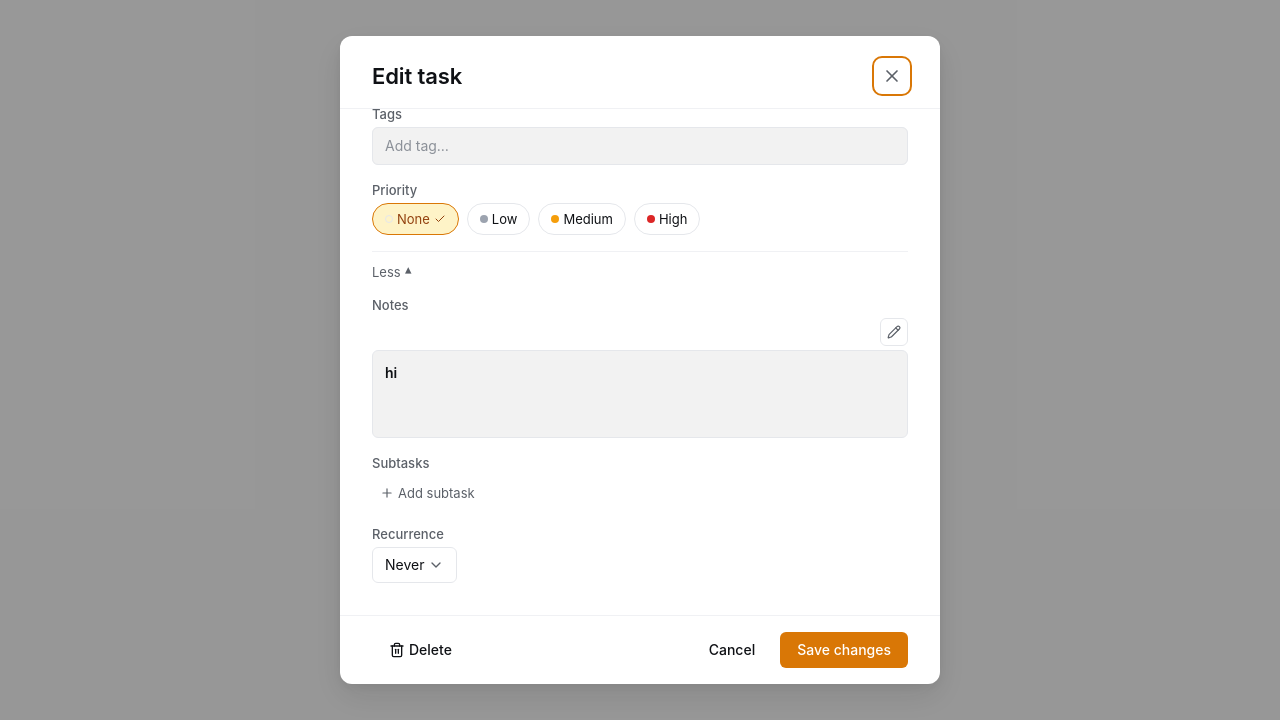
Test: TaskModal — Notes field with markdown (task-13) › clicking the Notes preview switches to textarea with raw markdown
(page scrolled)
Check: the dialog is shown, box left=340, top=36, right=940, bottom=684
Click the element named "notes preview" at (640, 394), box left=372, top=350, right=908, bottom=438
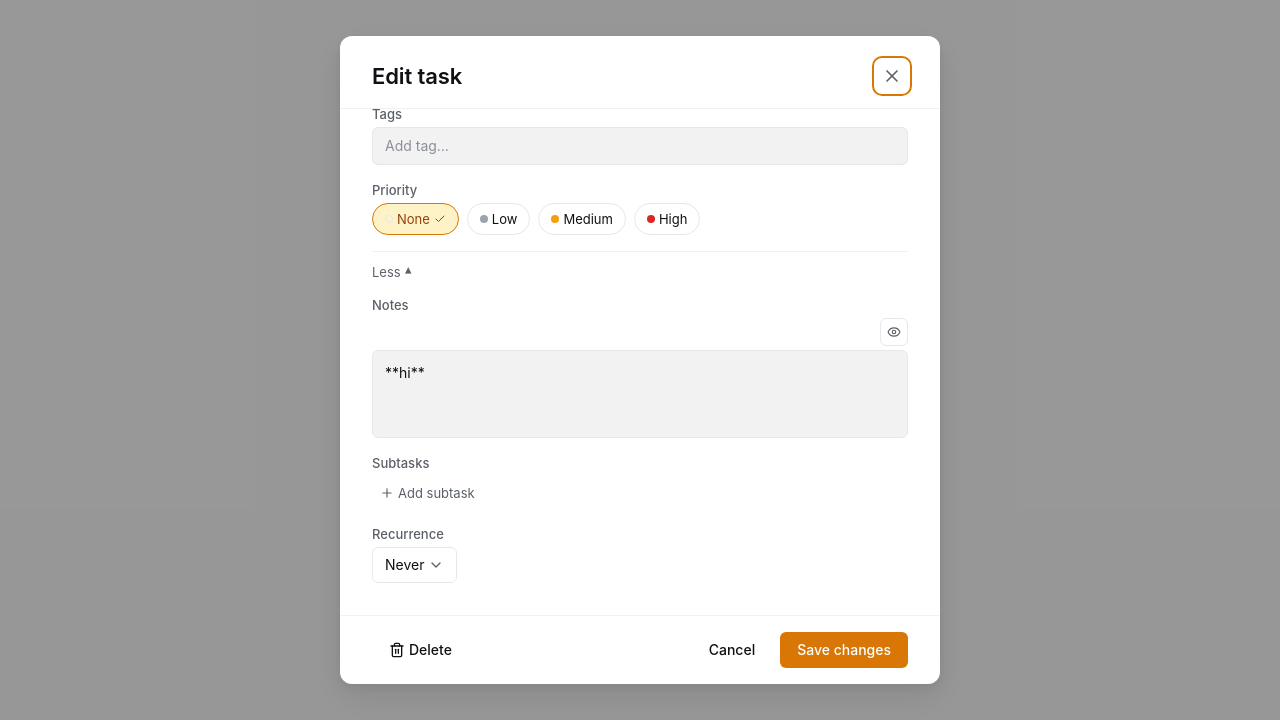
Check: the text box named "notes" holds "**hi**", box left=372, top=350, right=908, bottom=438
